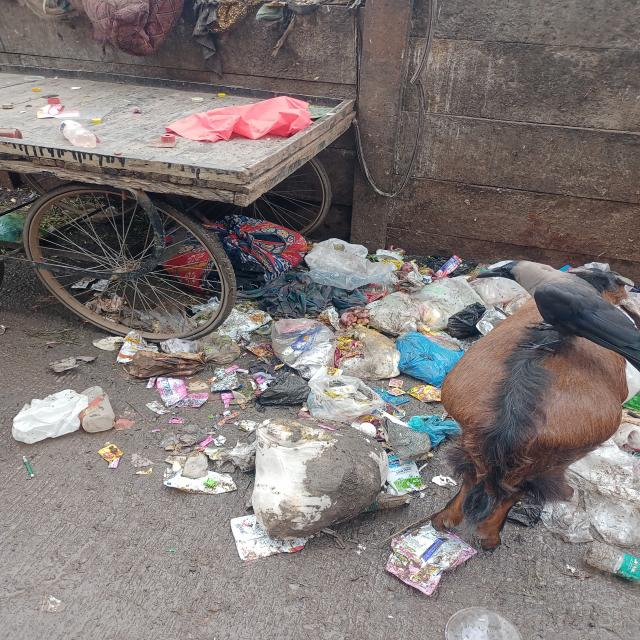garbage: (205, 211, 523, 526)
